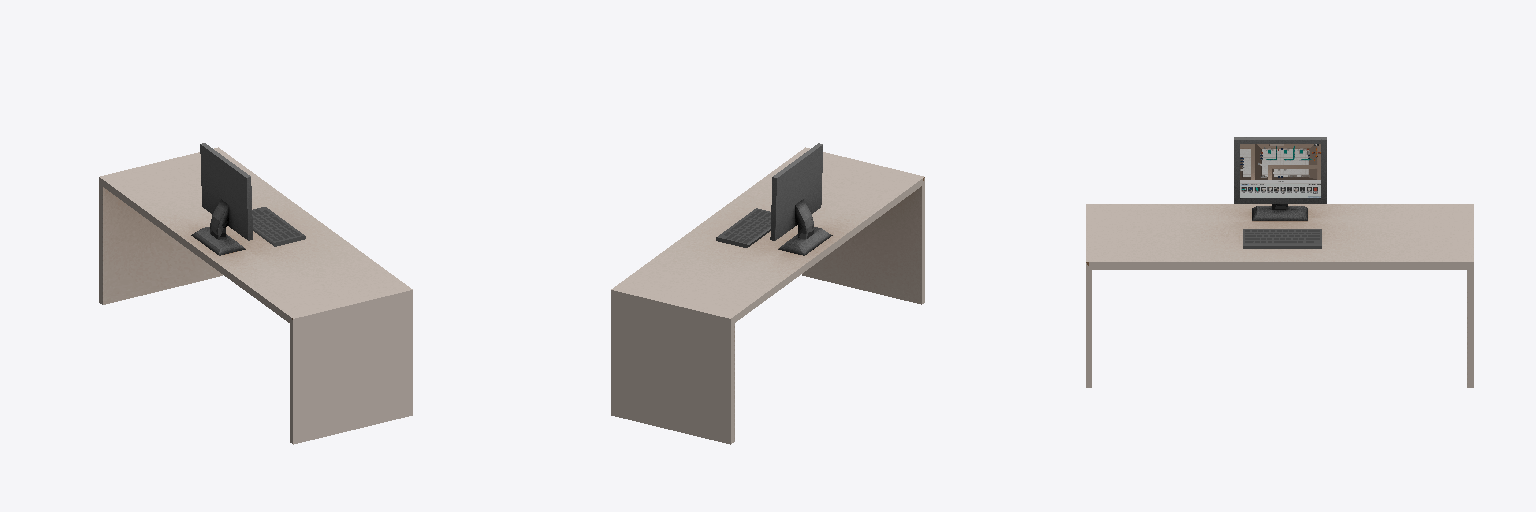
3 renders of one model, left to right at view 1: azimuth 30°, elevation 25°; view 2: azimuth 150°, elevation 25°; view 3: azimuth 270°, elevation 25°, orthographic.
Visible parts, largest first — view 1: Cube.034_Cube.007, Cube; view 2: Cube.034_Cube.007, Cube; view 3: Cube.034_Cube.007, Cube.
Boxes of the visible parts, <box> form: Cube.034_Cube.007: <box>99,143,412,444</box>; Cube: <box>191,200,305,255</box>; Cube.034_Cube.007: <box>611,143,924,444</box>; Cube: <box>716,199,832,255</box>; Cube.034_Cube.007: <box>1086,137,1473,387</box>; Cube: <box>1243,204,1321,248</box>.
Bounding box in the file's own units: 2.84 × 4.67 × 8.
Materials: 2 (2 with a texture image).